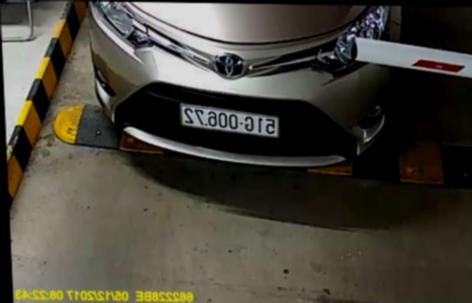License_Plate: (168, 104, 287, 135)
